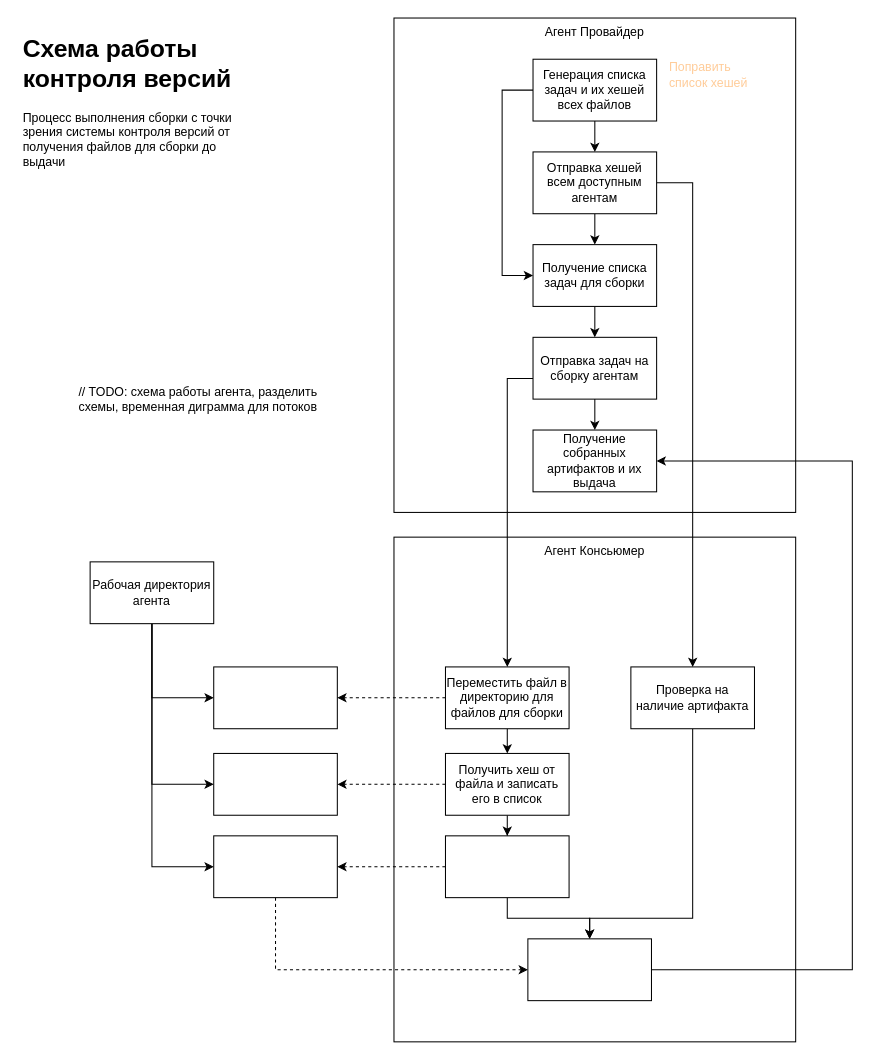
Some shapes in this 879 by 1060 pixel diagram are drawn without their labels. The centre of each missing label's shape, as x and y in pixels:
"Директория для хранения файлов для сборки" belongs at point (275, 697).
"Директория с артифактами" belongs at point (275, 866).
"Отправка артифакта на контроллер" belongs at point (589, 969).
"Сборка артифакта" belongs at point (506, 866).
"Файл с хешами" belongs at point (275, 783).
